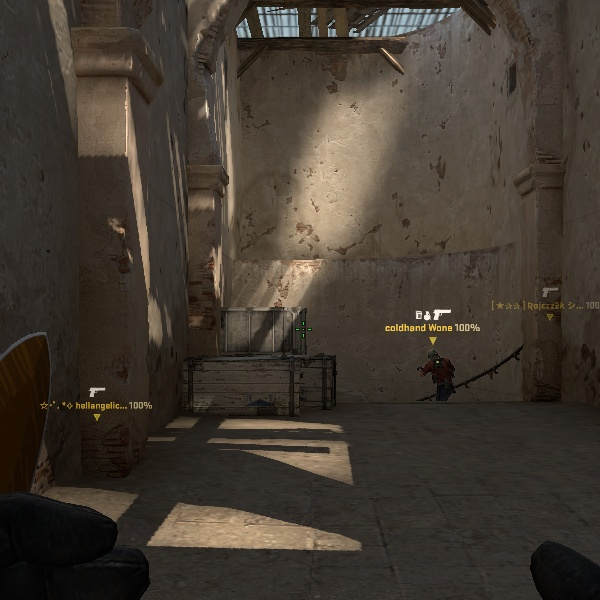t_body: (415, 346, 461, 401)
t_head: (425, 347, 445, 366)
